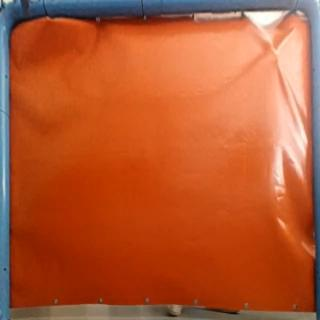Hit-hRxx: (267, 46, 285, 61)
